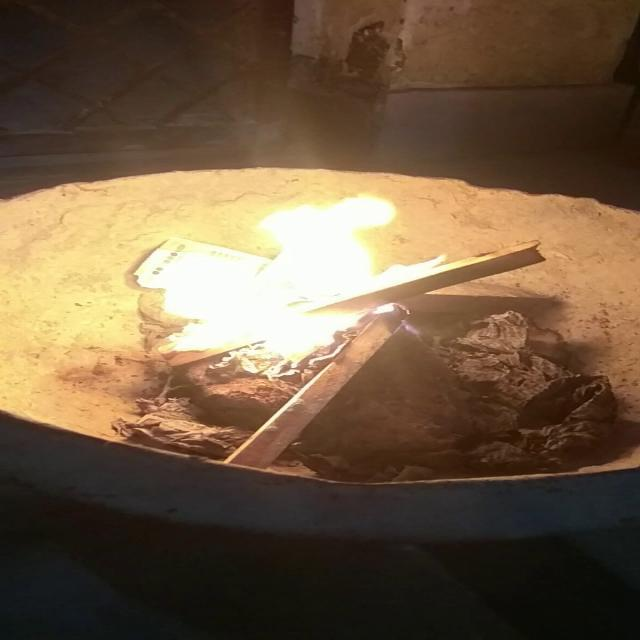Fire: (140, 180, 436, 369)
